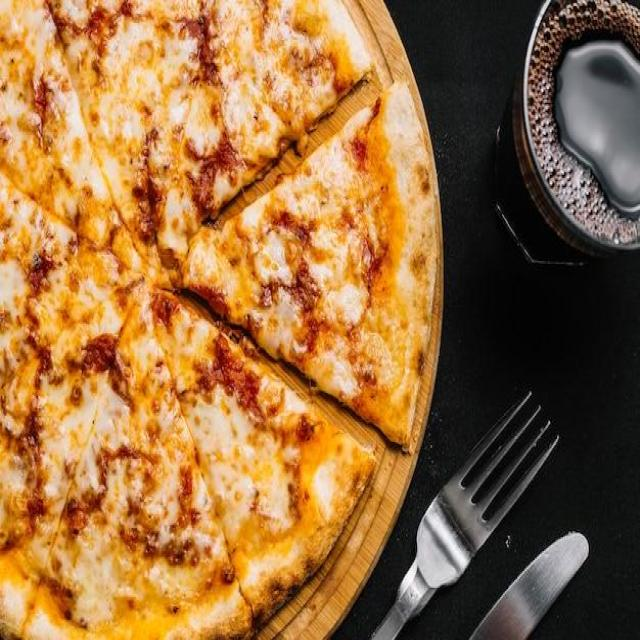pizza: (0, 0, 437, 640)
